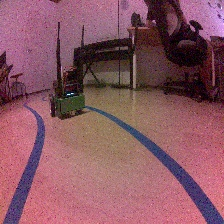rob: (47, 69, 85, 118)
